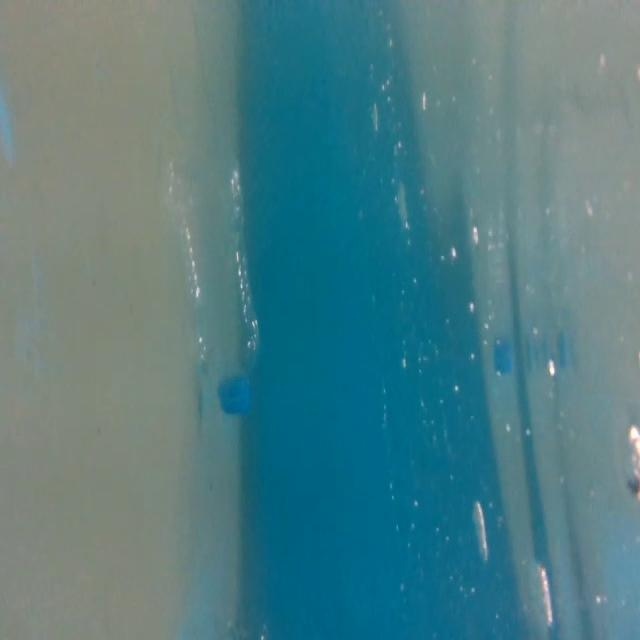plastic bottle: (161, 137, 269, 421)
